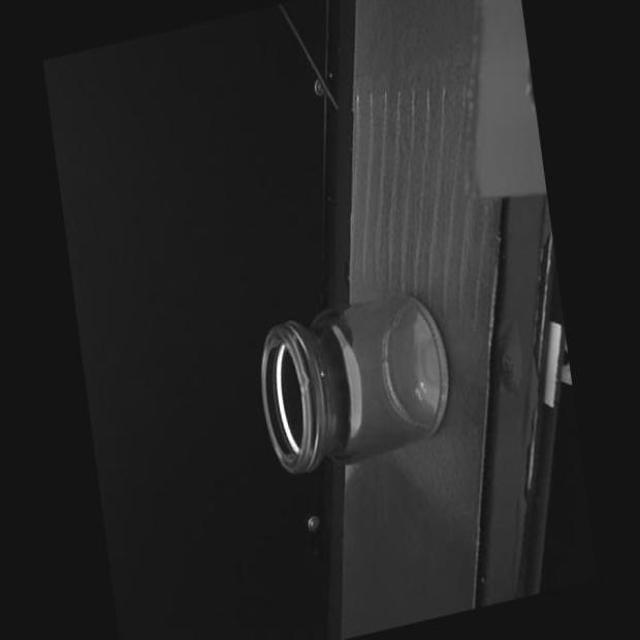defect: (295, 365, 312, 398), (319, 369, 324, 376)
glass: (247, 272, 458, 488)
